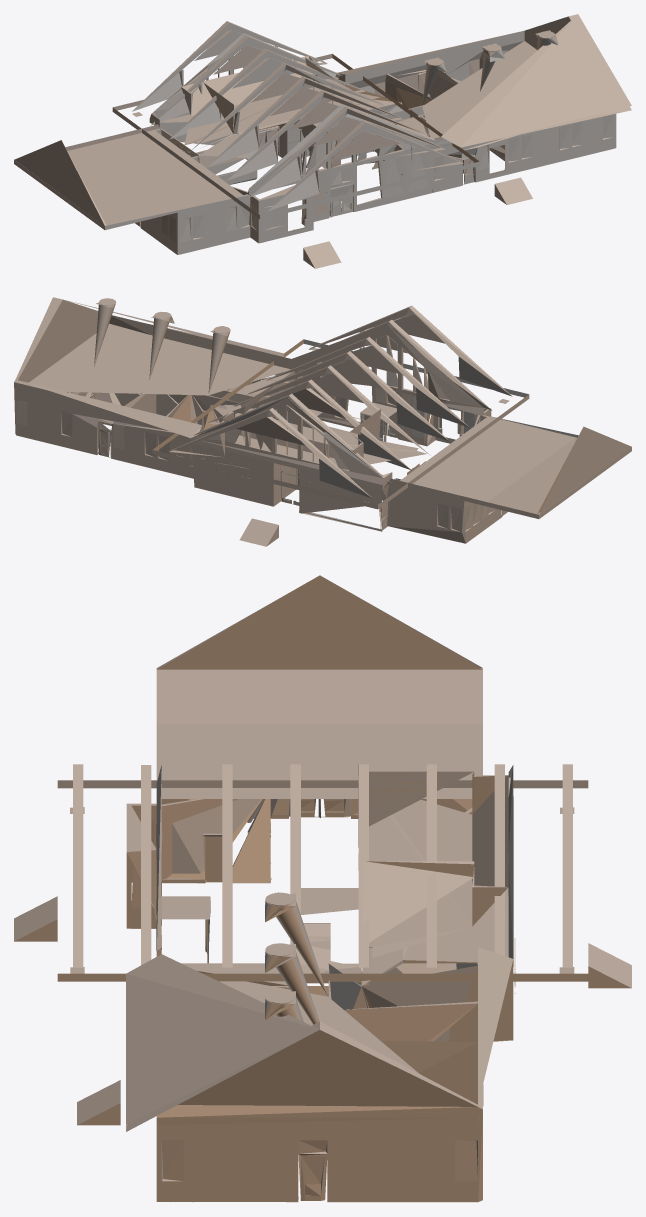
File: terminal.far-facades-v3.lod2.glb
3 renders of one model, top to bottom at view 1: azimuth 30°, elevation 25°; view 2: azimuth 150°, elevation 25°; view 3: azimuth 270°, elevation 25°, orthographic. The views are drawn at different scales.
Parts seen in each view (by area): view 1: terminal; view 2: terminal; view 3: terminal.
Part boxes in pixels (x1,y1,x2,y2): terminal: (14,14,631,268); terminal: (14,297,631,546); terminal: (14,575,631,1202).
Bounding box in the file's own units: 39.46 × 8.58 × 22.6.
